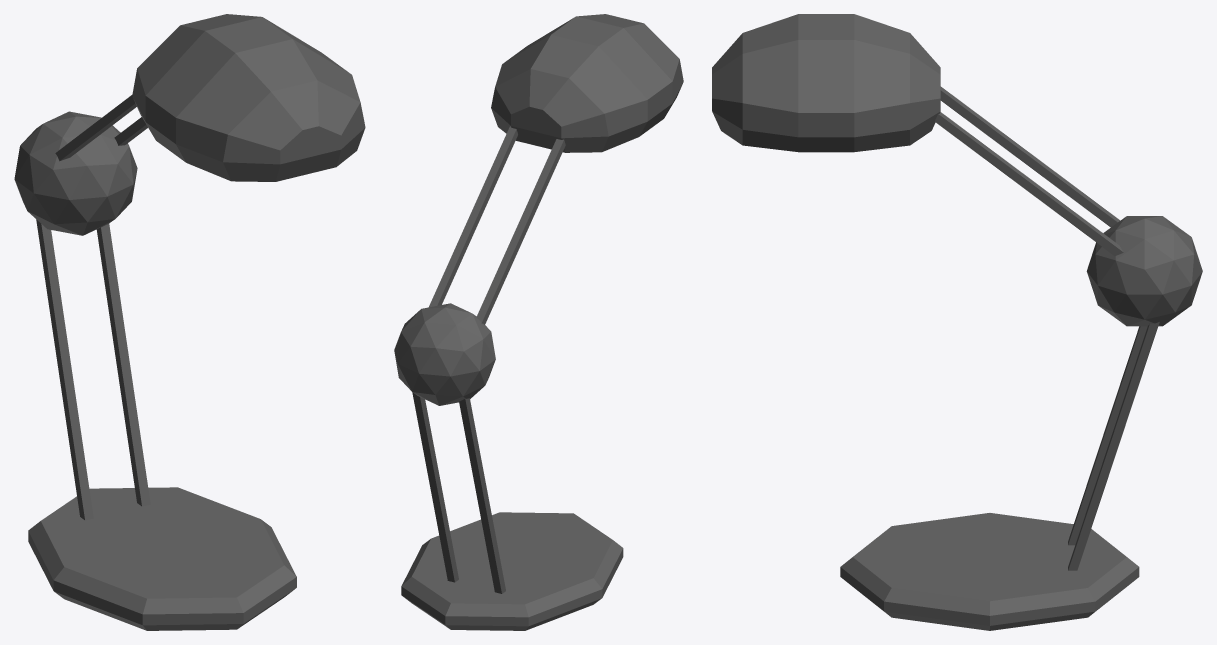
File: DeskLamp.fbx
3 renders of one model, left to right at view 1: azimuth 30°, elevation 25°; view 2: azimuth 150°, elevation 25°; view 3: azimuth 270°, elevation 25°, orthographic. The views are drawn at different scales.
Visible parts, largest first — view 1: WorkLamp; view 2: WorkLamp; view 3: WorkLamp.
Part boxes in pixels (<box>): WorkLamp: <box>14,14,365,630</box>; WorkLamp: <box>394,14,683,630</box>; WorkLamp: <box>712,14,1202,630</box>.
Size of the model in its own units: 0.1791 by 0.4756 by 0.3785.
Materials: 1 (1 with a texture image).
